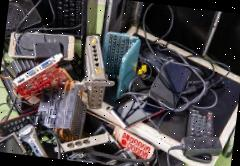electronic: (12, 0, 102, 78), (68, 104, 164, 164), (66, 31, 126, 117), (95, 25, 148, 117), (144, 50, 198, 122), (180, 103, 232, 166), (0, 104, 55, 156), (51, 126, 117, 166)
